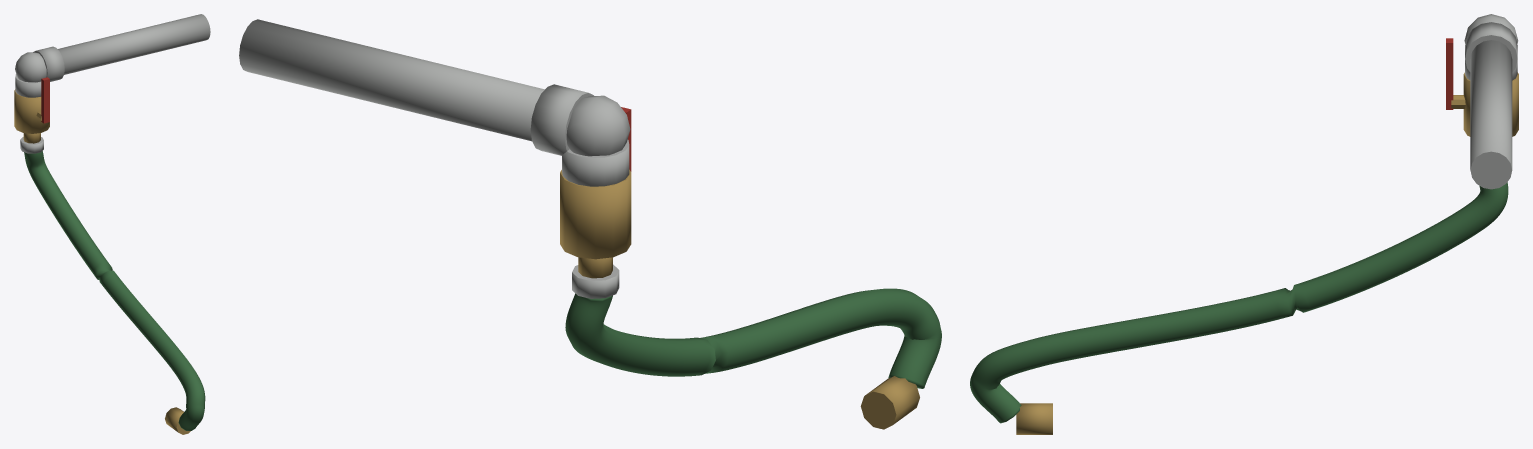
Rendered from barrel_fill_bend1.obj.
3 views of the same model, side by side, from view 1: azimuth 30°, elevation 25°; view 2: azimuth 150°, elevation 25°; view 3: azimuth 270°, elevation 25° (orthographic). The views are drawn at different scales.
Visible parts, largest first — view 1: hose, pipe2, valve_body, elbow_hub, elbow_socket2, elbow_socket1, valve_lever, nozzle, hose_collar; view 2: hose, pipe2, valve_body, elbow_hub, elbow_socket2, nozzle, elbow_socket1, hose_collar, hose_barb; view 3: hose, pipe2, elbow_socket2, nozzle, valve_body, valve_lever.
Part boxes in pixels (x1,y1,x2,y2): hose: (24,151,205,430); pipe2: (58,14,210,74); valve_body: (14,89,49,133); elbow_hub: (15,52,46,82); elbow_socket2: (33,46,64,81); elbow_socket1: (15,74,41,97); valve_lever: (41,77,49,123); nozzle: (165,407,190,434); hose_collar: (20,137,43,153); hose: (565,288,941,388); pipe2: (239,19,544,141); valve_body: (560,169,631,259); elbow_hub: (566,95,630,156); elbow_socket2: (530,84,593,155); nozzle: (860,376,919,429); elbow_socket1: (562,139,629,186); hose_collar: (572,264,619,298); hose_barb: (578,257,612,278); hose: (970,182,1508,423); pipe2: (1470,40,1512,189); elbow_socket2: (1465,22,1517,72); nozzle: (1016,403,1052,434); valve_body: (1463,72,1518,136); valve_lever: (1446,38,1453,109).
Bounding box in the file's own units: 0.545 × 0.7486 × 0.8942.
4 materials, 4 textured.
